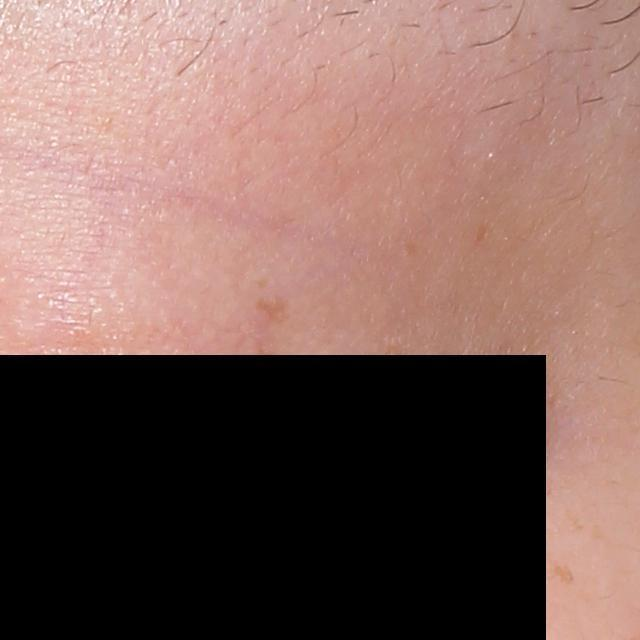melasma: (255, 291, 288, 324)
